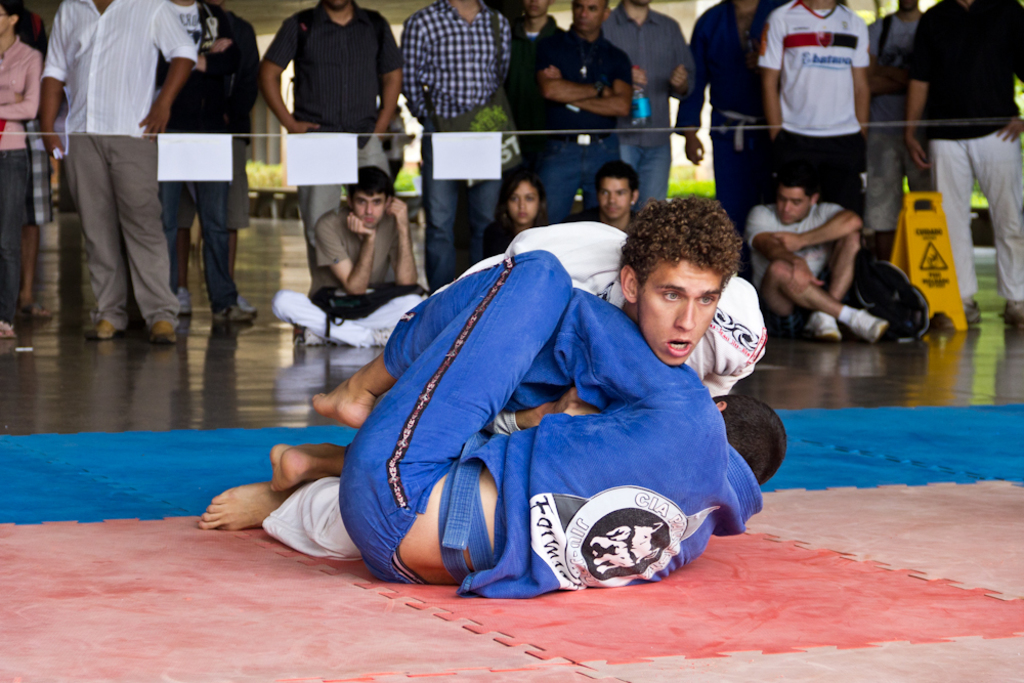person: (560, 157, 644, 232)
